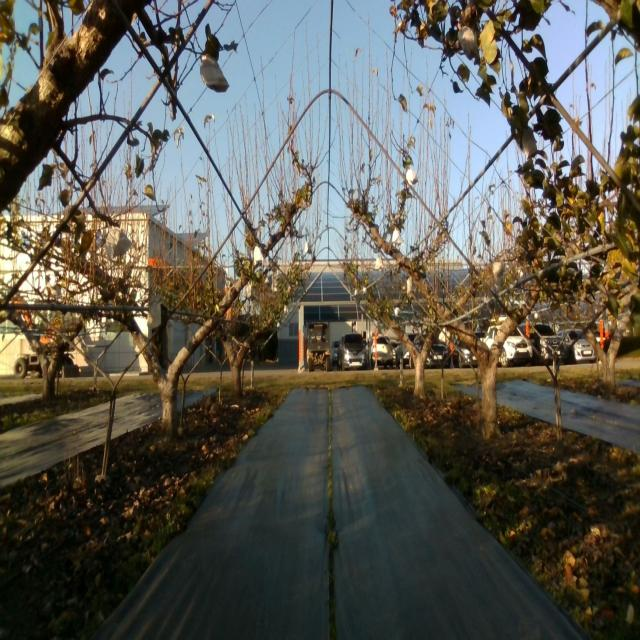pearbags: (198, 54, 229, 94), (106, 225, 131, 261), (521, 125, 538, 157), (458, 24, 475, 55), (492, 262, 504, 285), (406, 166, 418, 185)
